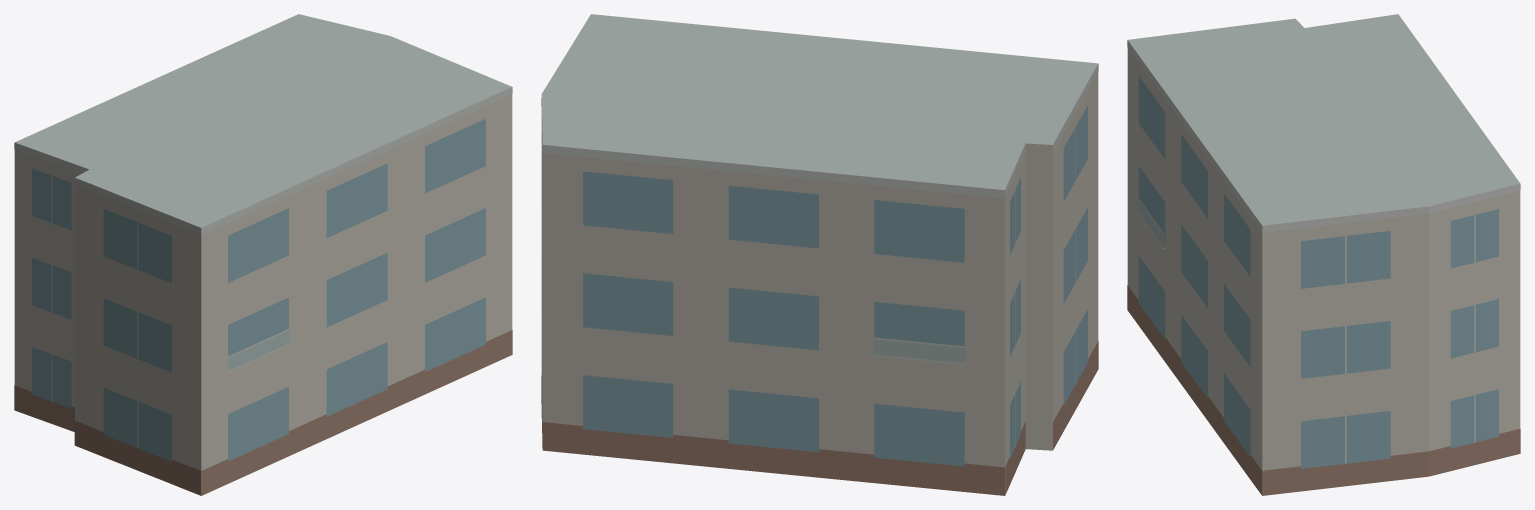
File: survey-upis-32620778.glb
The picture shows the model from 3 angles, left to right: view 1: azimuth 30°, elevation 25°; view 2: azimuth 150°, elevation 25°; view 3: azimuth 270°, elevation 25°; orthographic projection. The views are drawn at different scales.
Parts seen in each view (by area): view 1: survey-upis-32620778.tmp; view 2: survey-upis-32620778.tmp; view 3: survey-upis-32620778.tmp.
Part boxes in pixels (bbox=[...]): survey-upis-32620778.tmp: bbox=[14, 14, 512, 495]; survey-upis-32620778.tmp: bbox=[541, 14, 1098, 495]; survey-upis-32620778.tmp: bbox=[1127, 14, 1520, 495].
Bounding box in the file's own units: 15.39 × 9.15 × 12.07.
